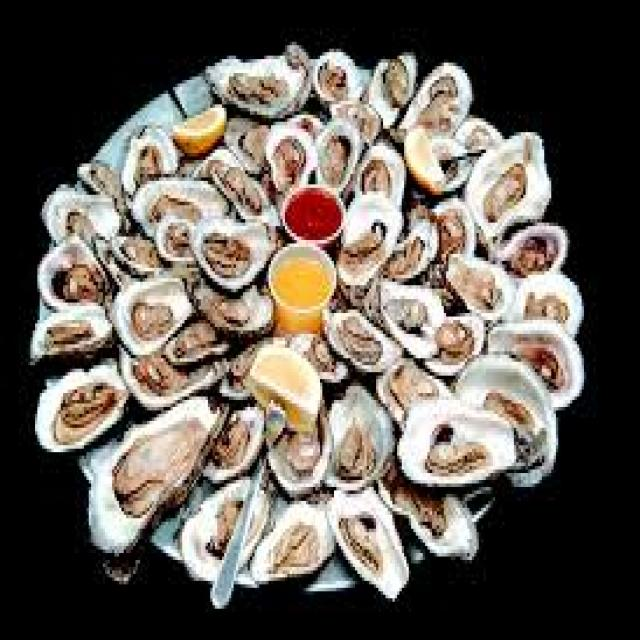Lemon: (250, 340, 324, 417)
Oysters: (98, 402, 214, 545), (401, 403, 515, 488), (330, 486, 410, 599), (467, 133, 552, 232), (206, 41, 308, 115), (36, 364, 125, 444), (255, 500, 336, 585), (326, 387, 390, 487), (108, 278, 189, 346), (191, 217, 266, 288), (379, 278, 445, 355), (405, 57, 474, 128), (29, 304, 111, 359), (128, 174, 226, 220), (327, 304, 390, 372), (38, 242, 102, 306), (505, 218, 577, 272), (363, 56, 419, 122), (313, 50, 364, 104)
